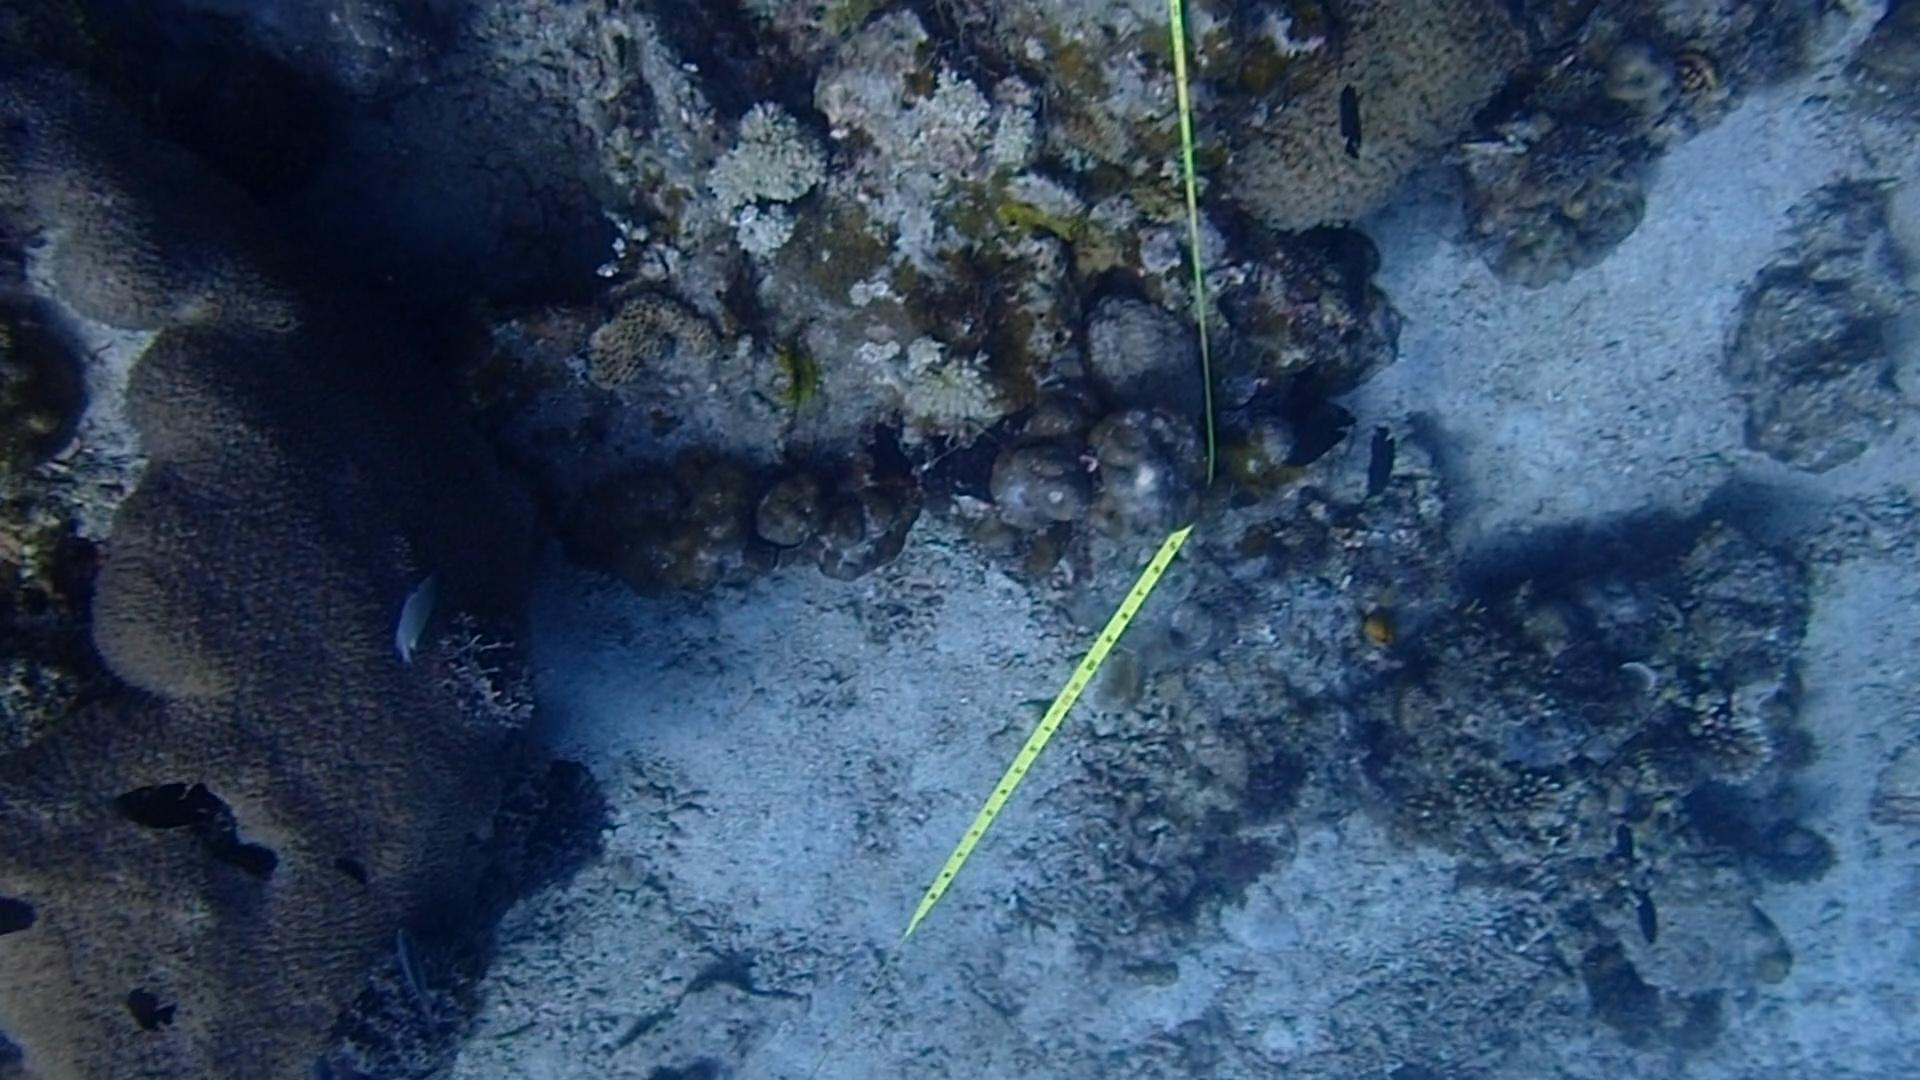Dark Fish: (1461, 67, 1544, 148), (117, 770, 218, 836), (1279, 405, 1362, 471), (1324, 90, 1382, 174), (111, 984, 177, 1040), (1360, 431, 1408, 506), (1625, 890, 1668, 961), (330, 848, 373, 898), (1610, 819, 1655, 864)
Light Fish: (384, 916, 443, 1038), (373, 571, 446, 669)
